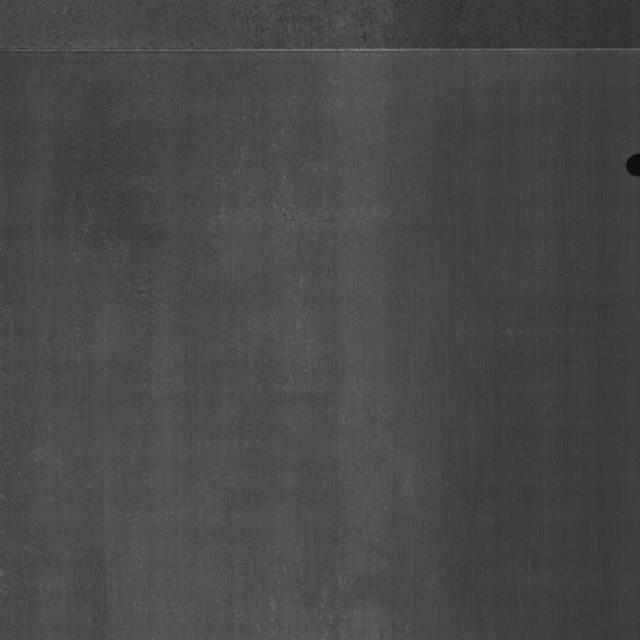crease: (1, 36, 640, 73)
crescent_gap: (618, 145, 640, 183)
